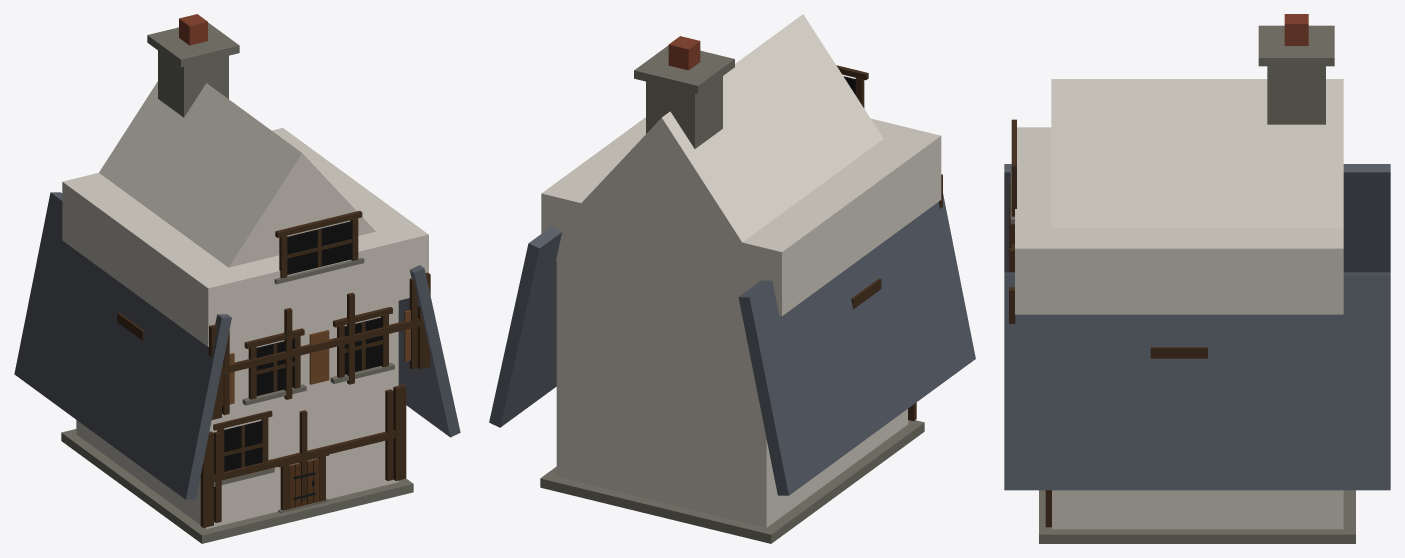
Rendered from house_townhouse.obj.
The picture shows the model from 3 angles, left to right: view 1: azimuth 30°, elevation 25°; view 2: azimuth 150°, elevation 25°; view 3: azimuth 270°, elevation 25°; orthographic projection. The views are drawn at different scales.
Visible parts, largest first — view 1: house_townhouse walls, house_townhouse roof slope, house_townhouse upper storey, house_townhouse footing, house_townhouse stud, house_townhouse corner post, house_townhouse rail, house_townhouse chimney stack, house_townhouse attic recess, house_townhouse chimney cap, house_townhouse parlour recess, house_townhouse chamber west recess (+11 smaller); view 2: house_townhouse walls, house_townhouse roof slope, house_townhouse upper storey, house_townhouse footing, house_townhouse chimney stack, house_townhouse chimney cap, house_townhouse chimney pot; view 3: house_townhouse roof slope, house_townhouse walls, house_townhouse upper storey, house_townhouse footing, house_townhouse chimney stack, house_townhouse chimney cap, house_townhouse chimney pot, house_townhouse jetty beam, house_townhouse corner post.
Boxes of the visible parts, x1,y1,x2,y2 form: house_townhouse walls: (76,81,398,528); house_townhouse roof slope: (14,192,460,499); house_townhouse upper storey: (62,128,428,346); house_townhouse footing: (61,429,413,543); house_townhouse stud: (213,278,417,522); house_townhouse corner post: (200,272,430,527); house_townhouse rail: (214,318,419,482); house_townhouse chimney stack: (158,50,228,117); house_townhouse attic recess: (287,221,352,274); house_townhouse chimney cap: (147,22,239,67); house_townhouse parlour recess: (224,421,262,471); house_townhouse chamber west recess: (256,339,294,395); house_townhouse walls: (556,14,908,527); house_townhouse roof slope: (489,194,975,495); house_townhouse upper storey: (541,117,941,316); house_townhouse footing: (540,420,924,543); house_townhouse chimney stack: (646,76,722,148); house_townhouse chimney cap: (634,45,734,93); house_townhouse chimney pot: (668,36,700,70); house_townhouse roof slope: (1004,164,1390,490); house_townhouse walls: (1051,79,1343,529); house_townhouse upper storey: (1015,127,1343,314); house_townhouse footing: (1039,490,1355,543); house_townhouse chimney stack: (1267,66,1325,124); house_townhouse chimney cap: (1258,25,1334,66); house_townhouse chimney pot: (1284,14,1308,45); house_townhouse jetty beam: (1150,347,1207,358); house_townhouse corner post: (1009,210,1051,527).
Size of the model in its own units: 685 by 987 by 740.
